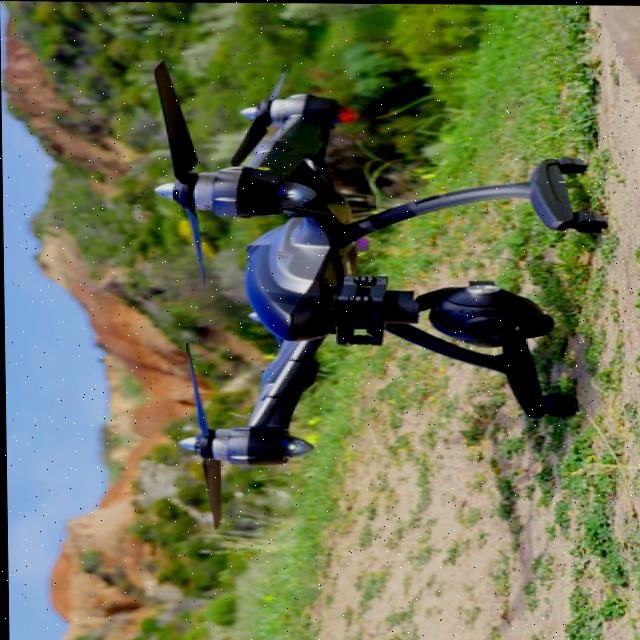drone: (112, 81, 425, 522)
